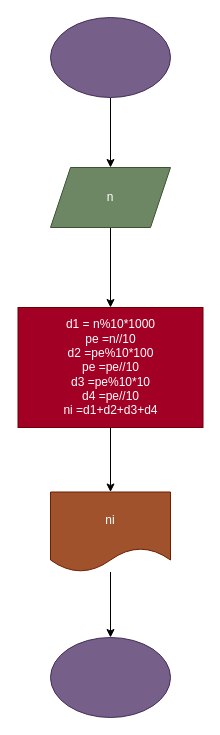
This 220x735 diagram has some shape labels left out. The box of each missing label's shape, as (x1, y1, x2, y2) in pixels:
FIN: (50, 636, 170, 718)
INICIO: (50, 16, 170, 98)
